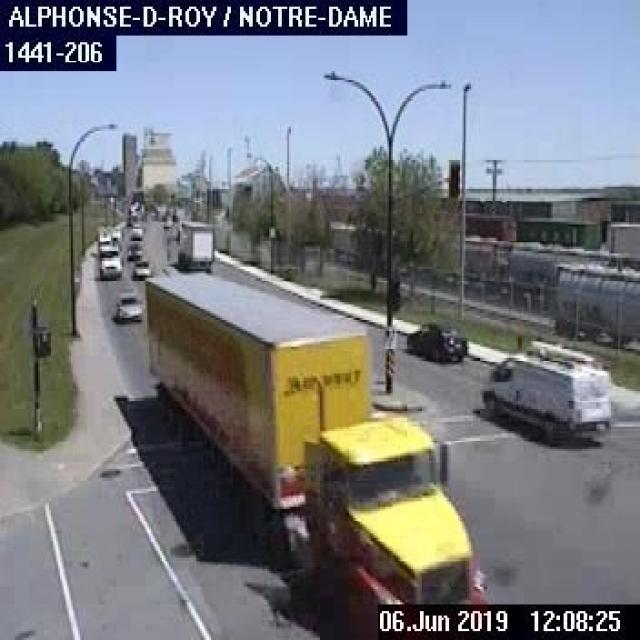vehicle: (144, 269, 484, 629), (479, 336, 613, 444), (402, 314, 467, 362), (176, 215, 212, 273), (112, 285, 143, 324), (97, 239, 121, 279), (130, 258, 149, 278), (125, 238, 143, 259)
